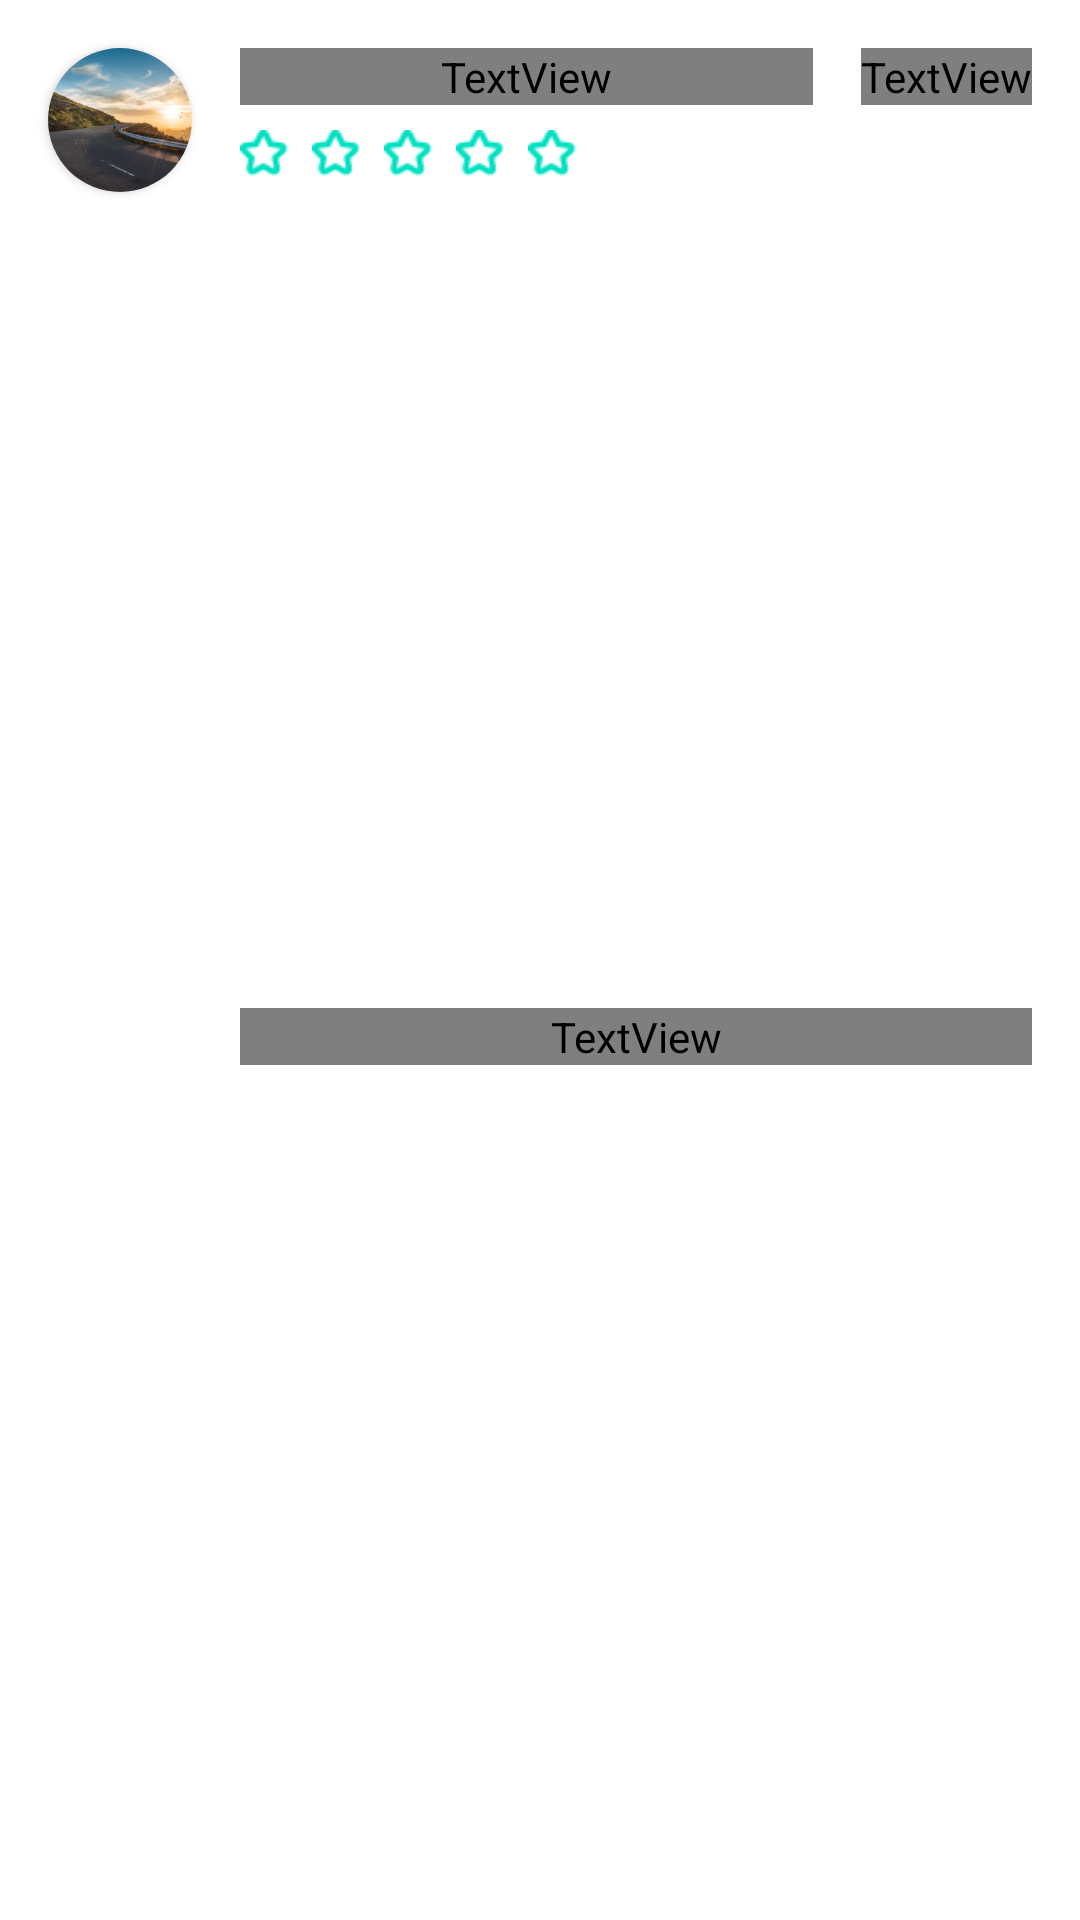

Icons on this 1080px×1920px Android screen, each with its box as (x1, y1, x2, y2):
star empty: (240, 130, 288, 176), (312, 130, 360, 176), (384, 130, 432, 176), (456, 130, 504, 176), (528, 130, 576, 176)
